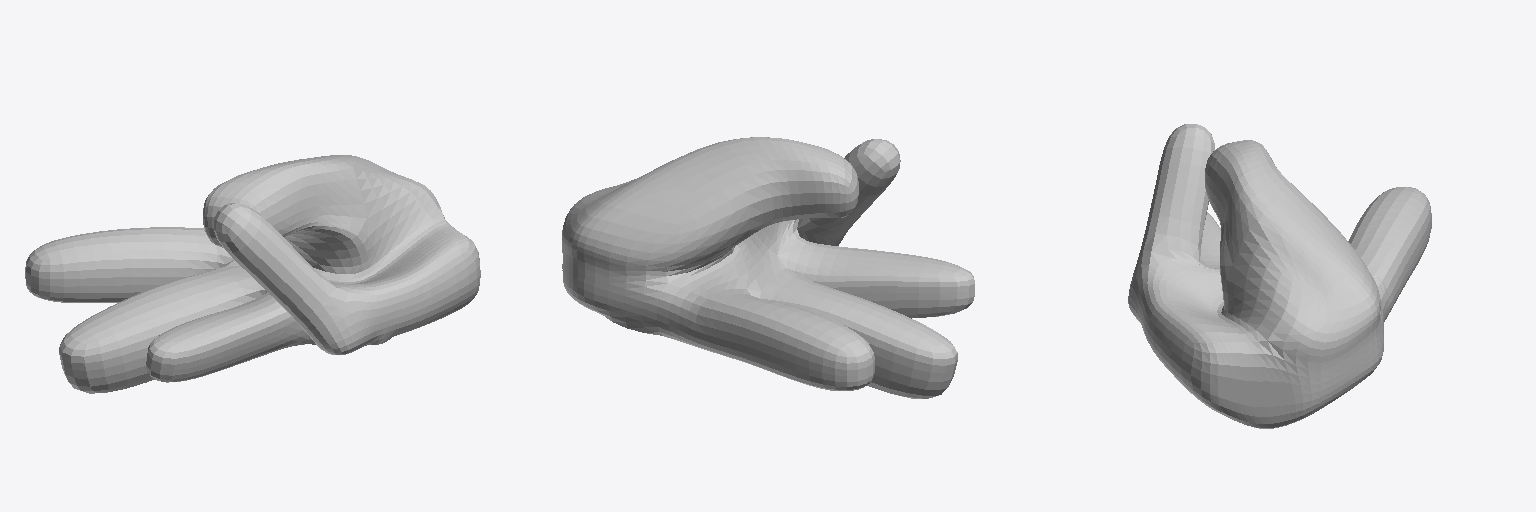
The picture shows the model from 3 angles: view 1: azimuth 30°, elevation 25°; view 2: azimuth 150°, elevation 25°; view 3: azimuth 270°, elevation 25°; orthographic projection.
Parts seen in each view (by area): view 1: W_HAND; view 2: W_HAND; view 3: W_HAND.
Boxes of the visible parts, box(x1,y1,x2,y2) form: W_HAND: box(25, 155, 480, 393); W_HAND: box(562, 137, 974, 398); W_HAND: box(1128, 124, 1431, 428).
Bounding box in the file's own units: 184 × 92.54 × 127.